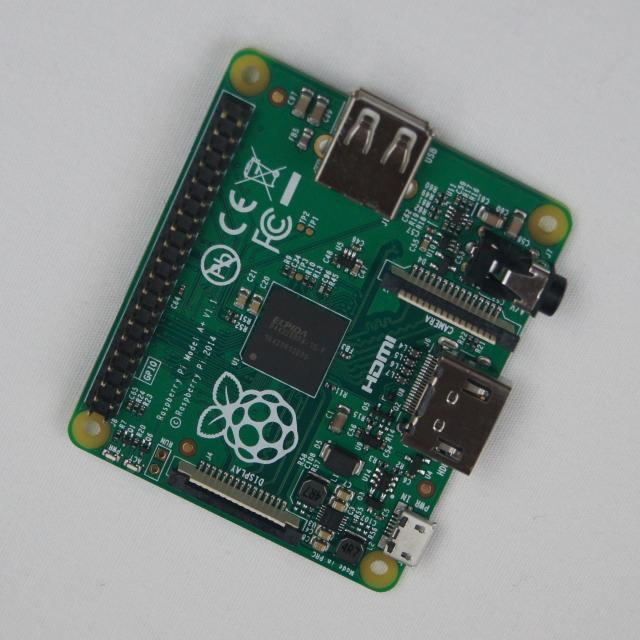Raspberry-Pi-1-A-: (69, 50, 572, 592)
